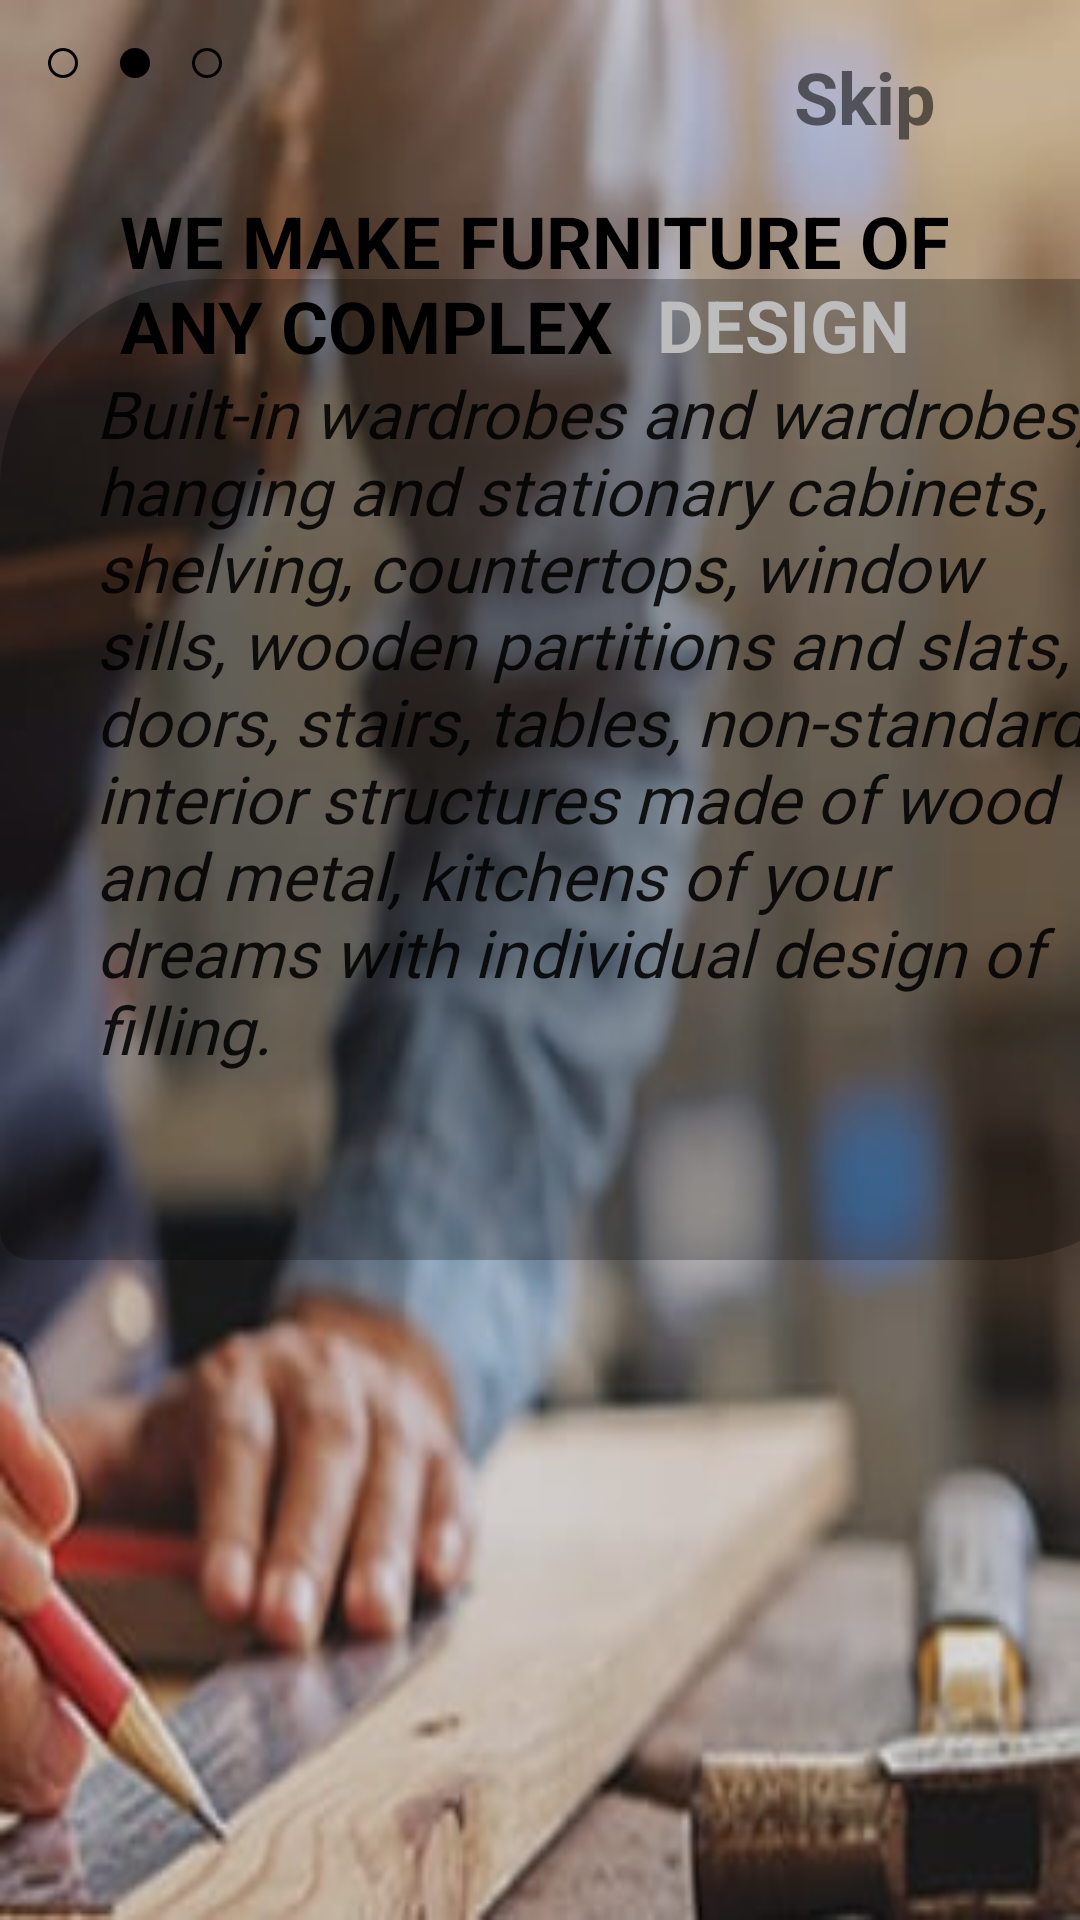

Icon bounding boxes for this 1080px×1920px phone screenshot, format BBox(x1, y1, x2, y2):
circle: BBox(120, 48, 150, 78)
circle blank: BBox(48, 48, 78, 78), BBox(192, 48, 222, 78)
